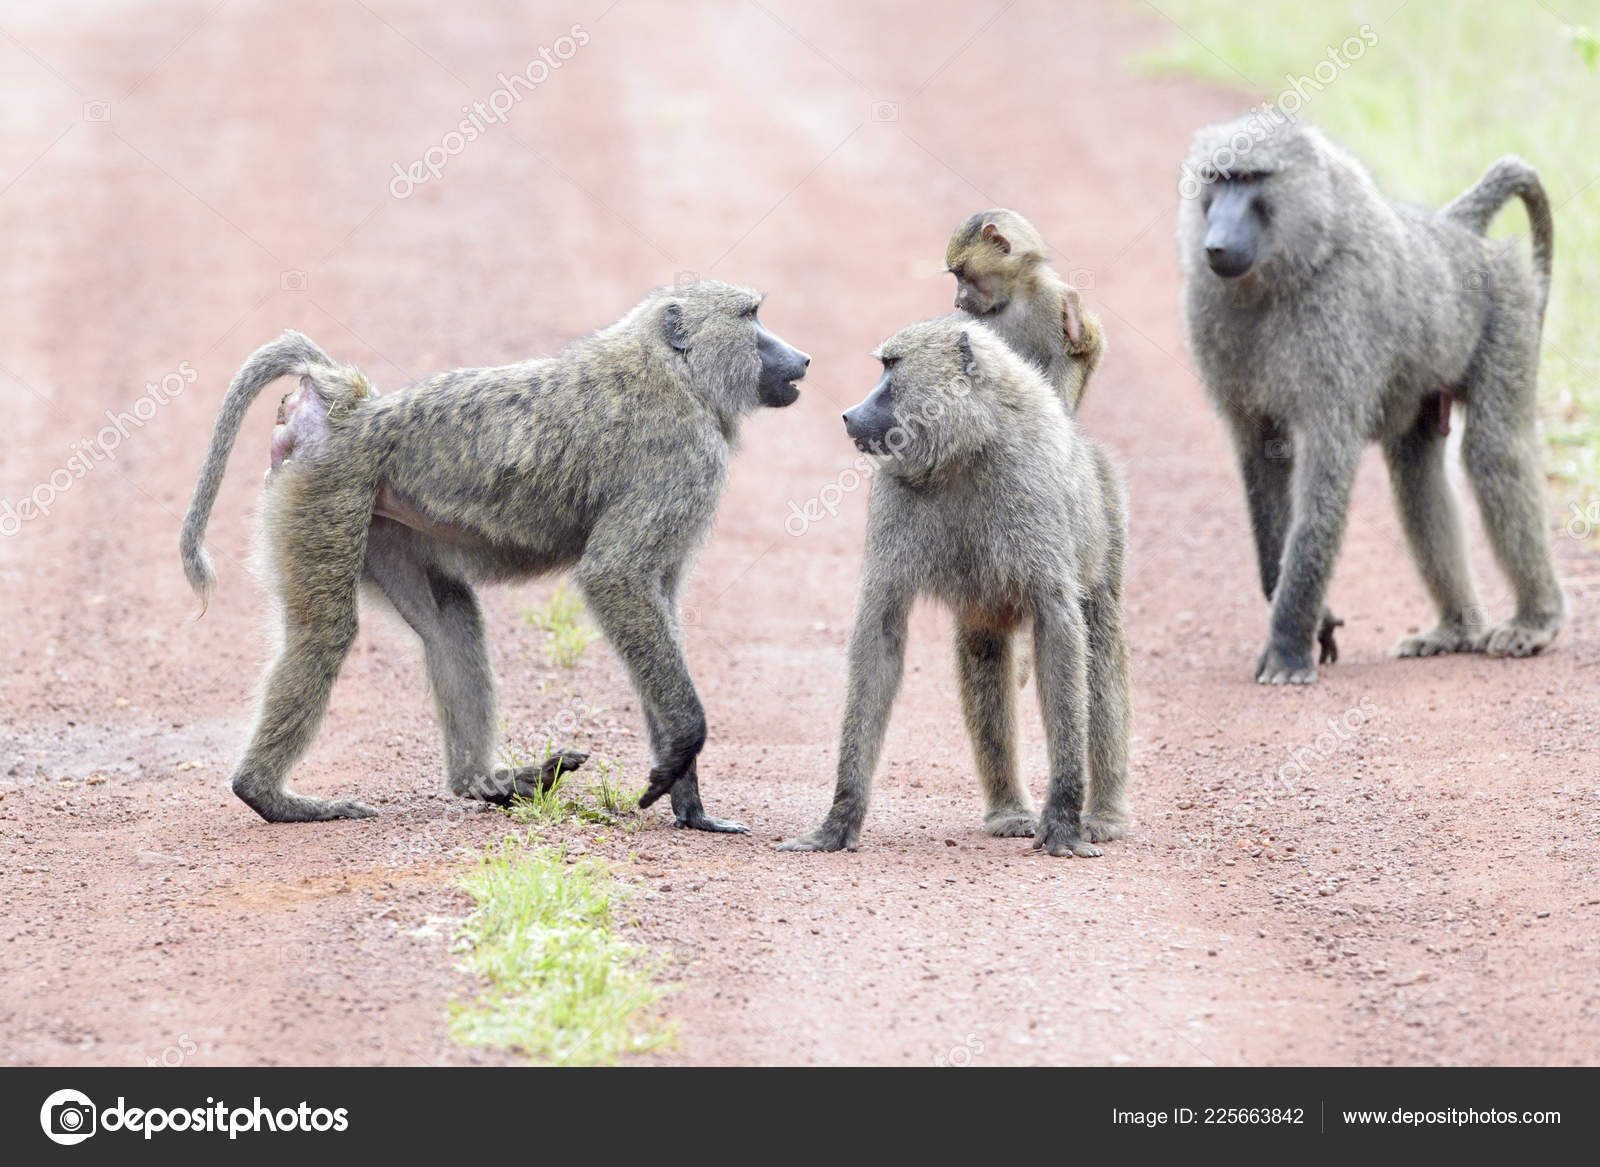monkey: (165, 268, 815, 872), (1157, 103, 1583, 698), (776, 314, 1157, 866), (930, 198, 1128, 432)
